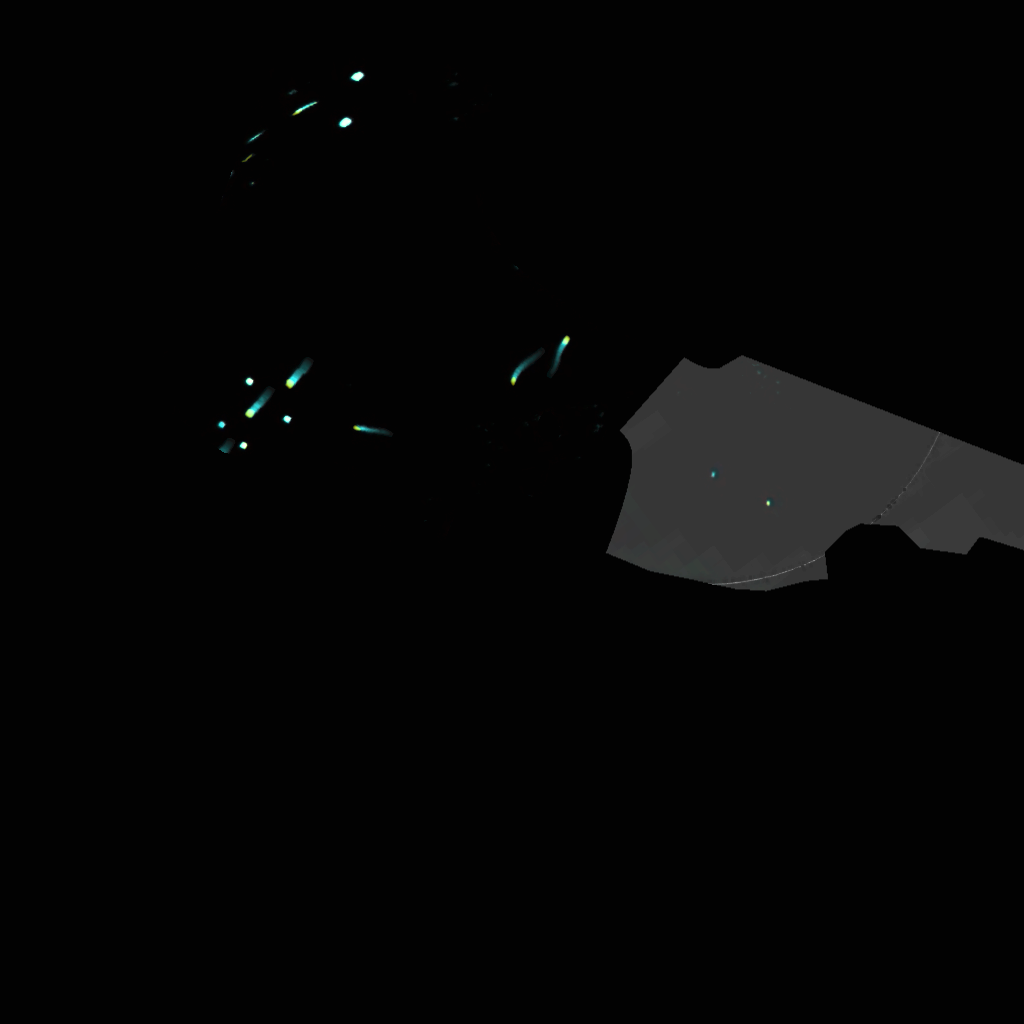B: (509, 354, 534, 385), (356, 420, 390, 440), (244, 391, 274, 412), (288, 360, 313, 385), (557, 329, 567, 375)
